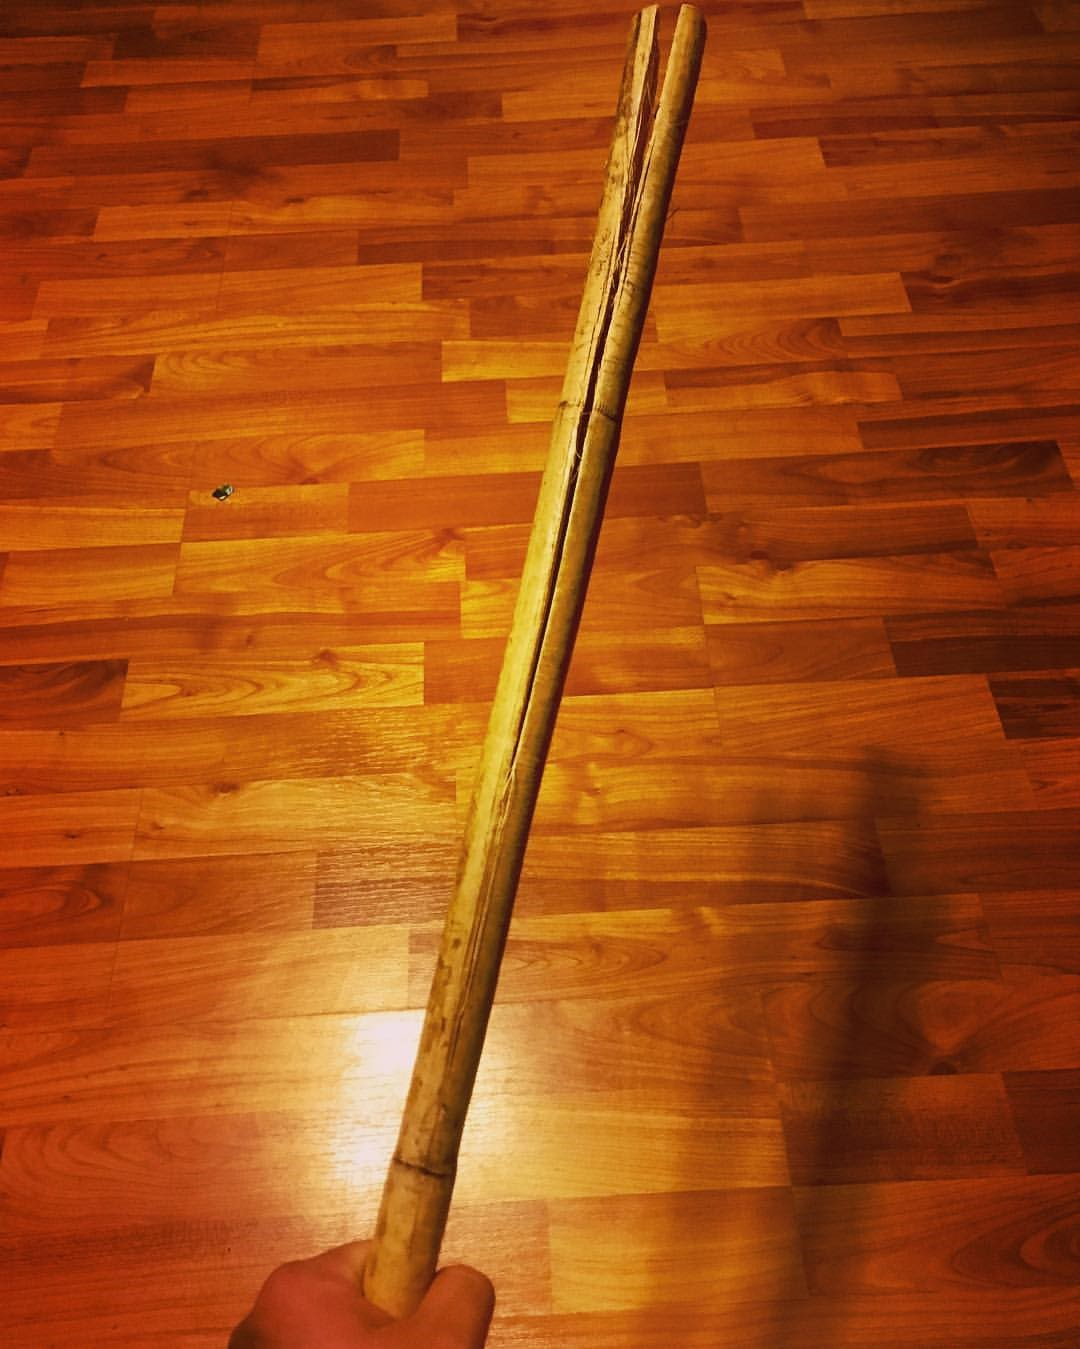baston_e: (348, 35, 708, 1267)
baston_v: (622, 0, 726, 93)
